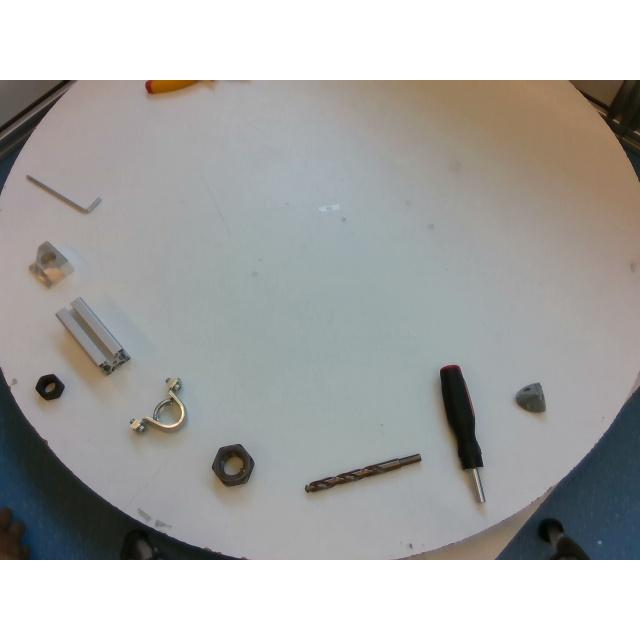Drill: (304, 452, 420, 492)
Housing: (130, 376, 186, 432)
M20: (36, 374, 64, 400)
M30: (212, 444, 252, 486)
S40_40_G: (54, 298, 130, 374)
